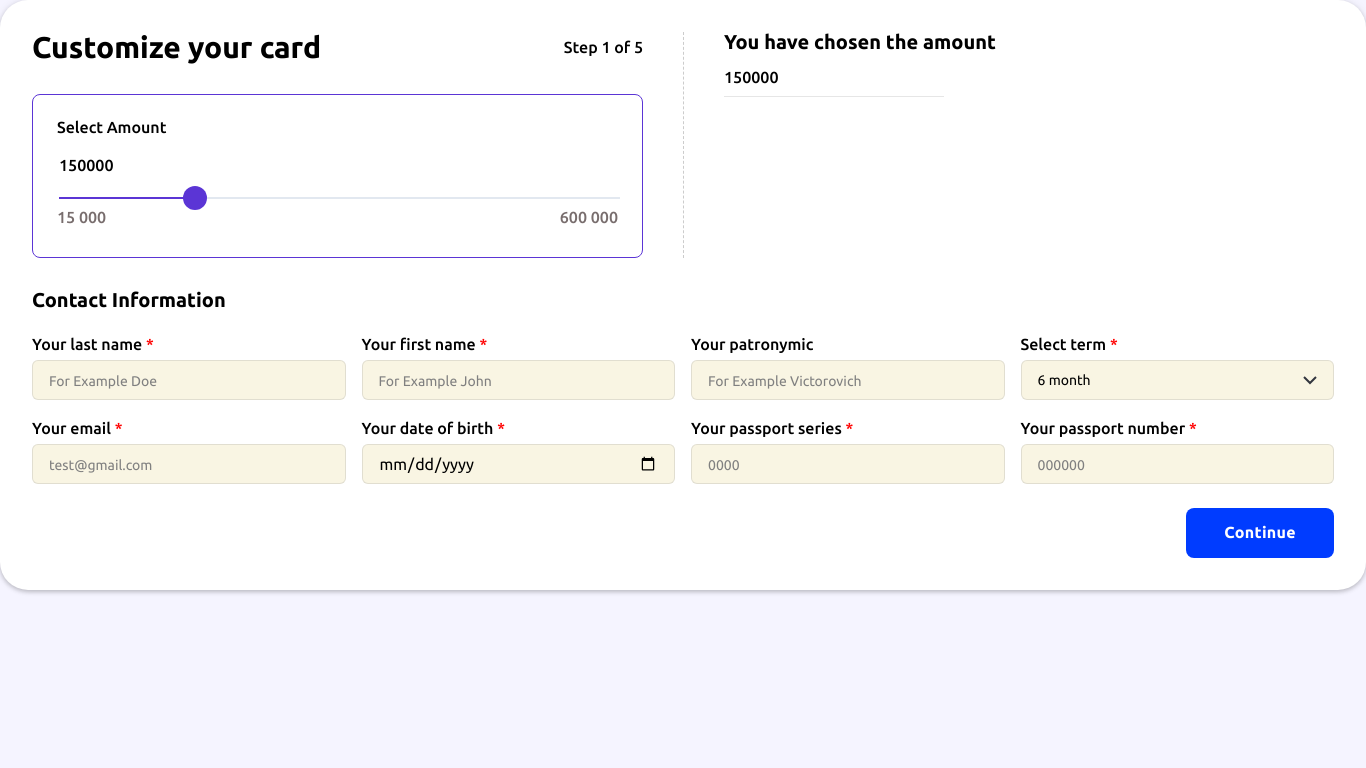
Test case: PrescoringForm › Отправка формы с невалидными данными, проверка валидации и функция отправки данных не должна быть вызвана
The width and height of the screenshot is (1366, 768).
Click the button with test id "prescoring-submit". click: (1260, 533)
box: [1186, 508, 1334, 558]
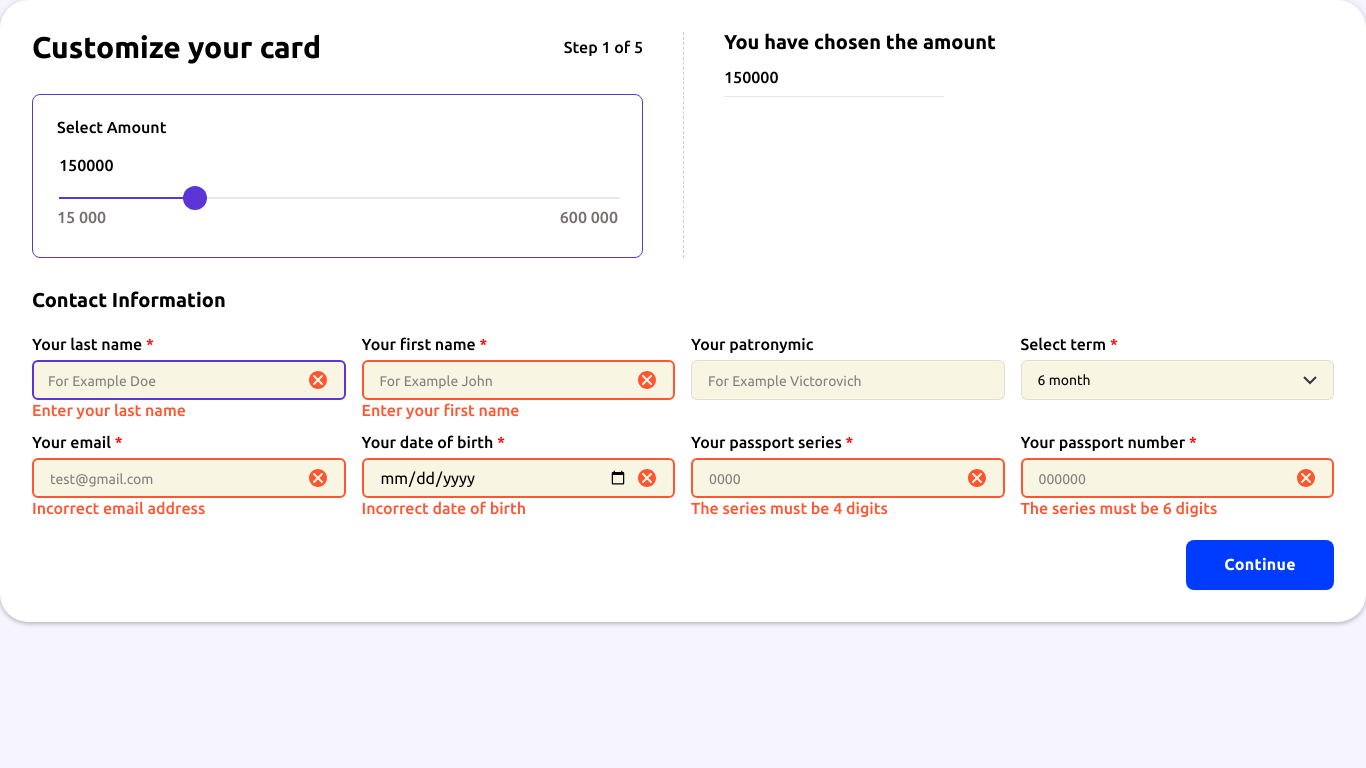
Check: the text "Enter your last name" is shown, box [32, 401, 186, 419]
Check: the text "Enter your first name" is shown, box [362, 401, 519, 419]
Check: the text "Incorrect email address" is shown, box [32, 499, 205, 517]
